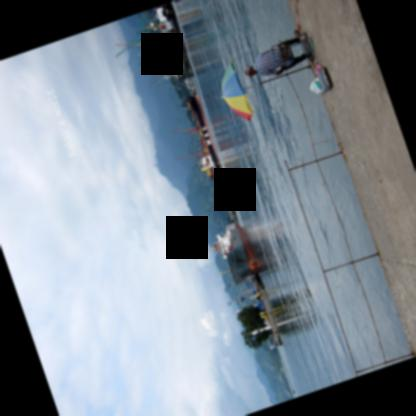suitcase: (316, 65, 333, 91)
